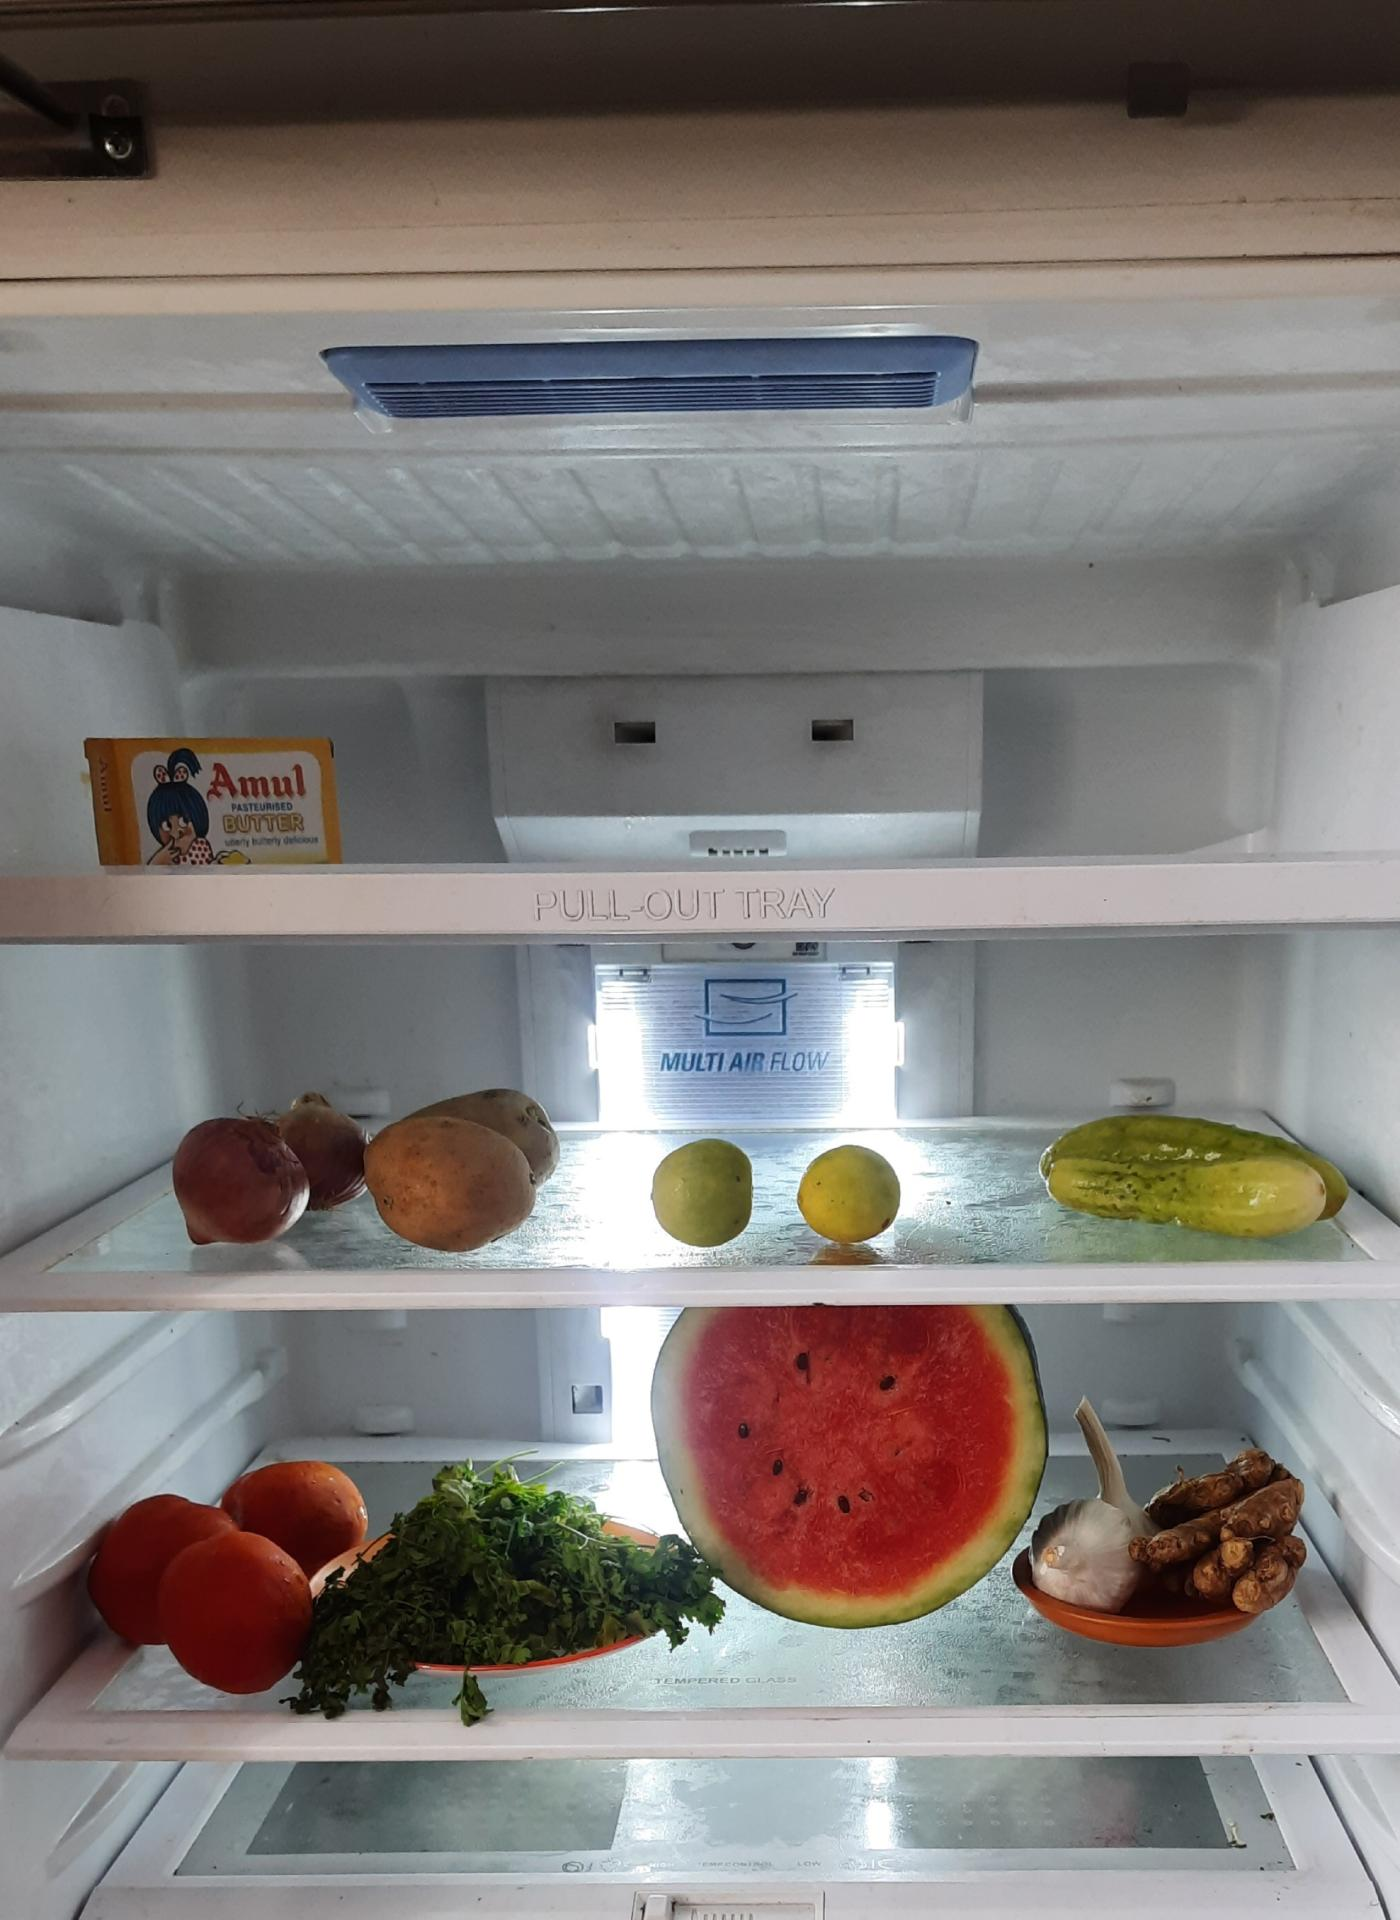butter: (86, 729, 352, 872)
carrots: (331, 1091, 547, 1249)
coriander: (367, 1452, 692, 1701)
cucumber: (1035, 1108, 1355, 1239)
garlic: (1035, 1394, 1139, 1585)
ginger: (1142, 1449, 1308, 1616)
lemon: (647, 1127, 760, 1246), (793, 1133, 908, 1246)
onion: (174, 1076, 361, 1227)
tomato: (91, 1444, 373, 1686)
watermelon: (662, 1282, 1053, 1614)
